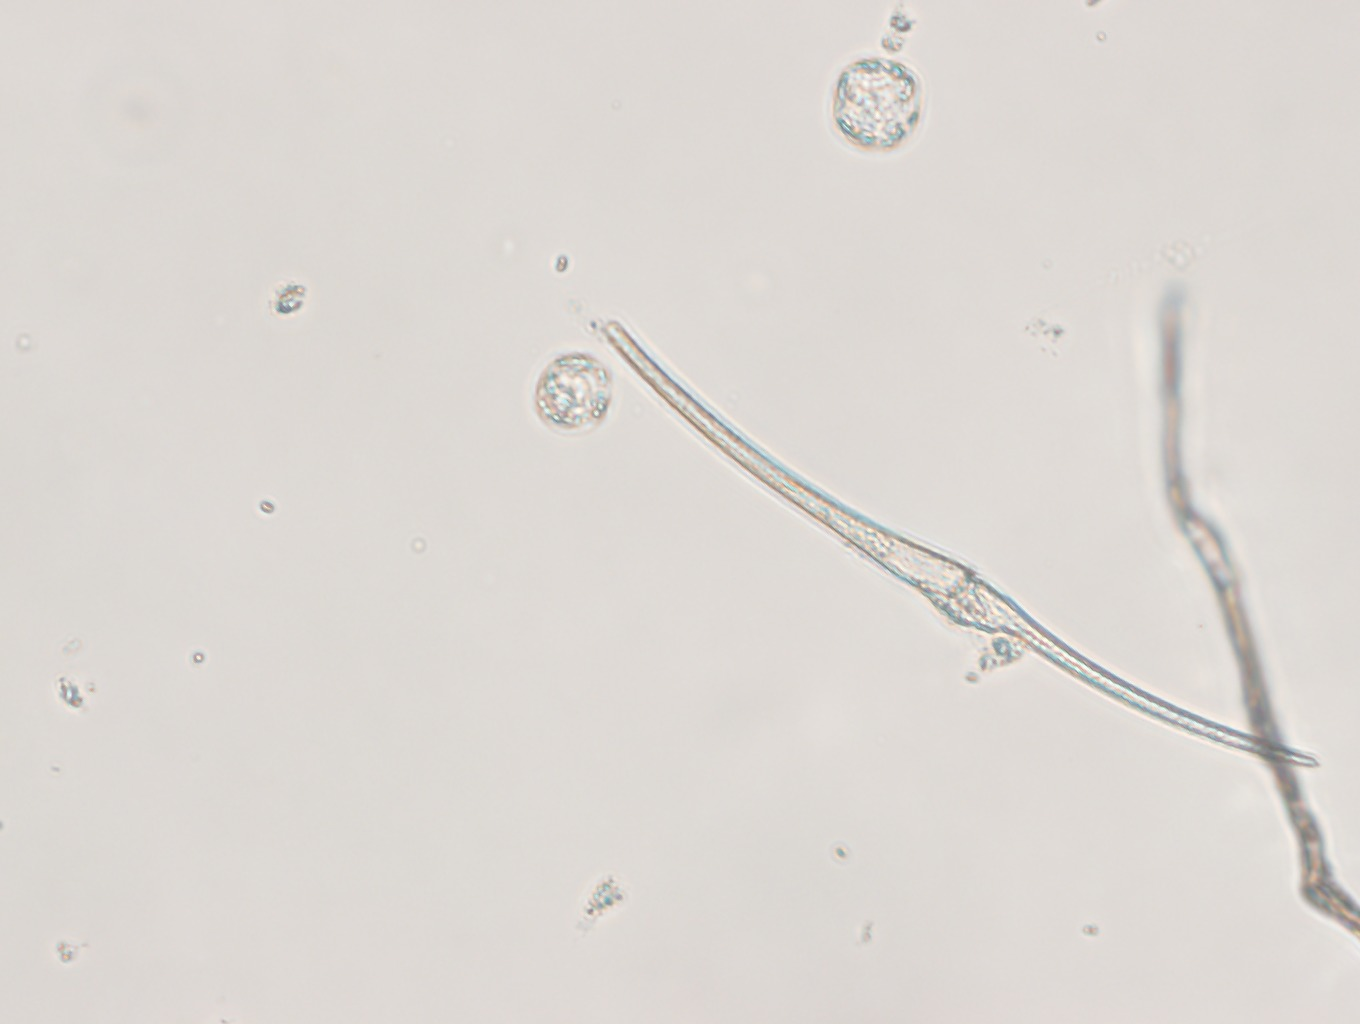ceratium fusus: (597, 316, 1326, 772)
